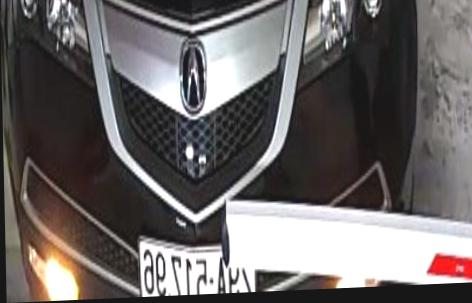License_Plate: (124, 237, 267, 297)
